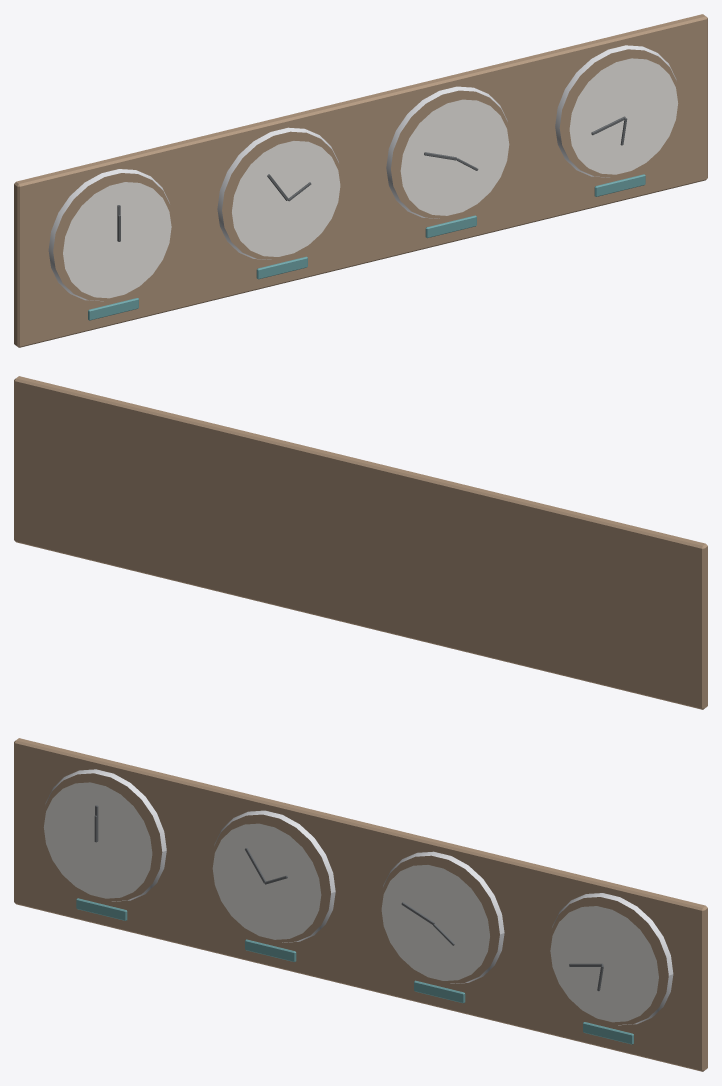
The model's file is hotel-and-resort-operations-lobby-world-clocks-b9c35736__25880.glb.
3 views of the same model, one above another, from view 1: azimuth 30°, elevation 25°; view 2: azimuth 150°, elevation 25°; view 3: azimuth 330°, elevation 25° (orthographic).
Visible parts, largest first — view 1: lobby-world-clocks; view 2: lobby-world-clocks; view 3: lobby-world-clocks.
Part boxes in pixels (<box>): lobby-world-clocks: <box>14,14,707,347</box>; lobby-world-clocks: <box>14,376,707,709</box>; lobby-world-clocks: <box>14,738,707,1071</box>.
Size of the model in its own units: 1.5 by 0.34 by 0.0559.
